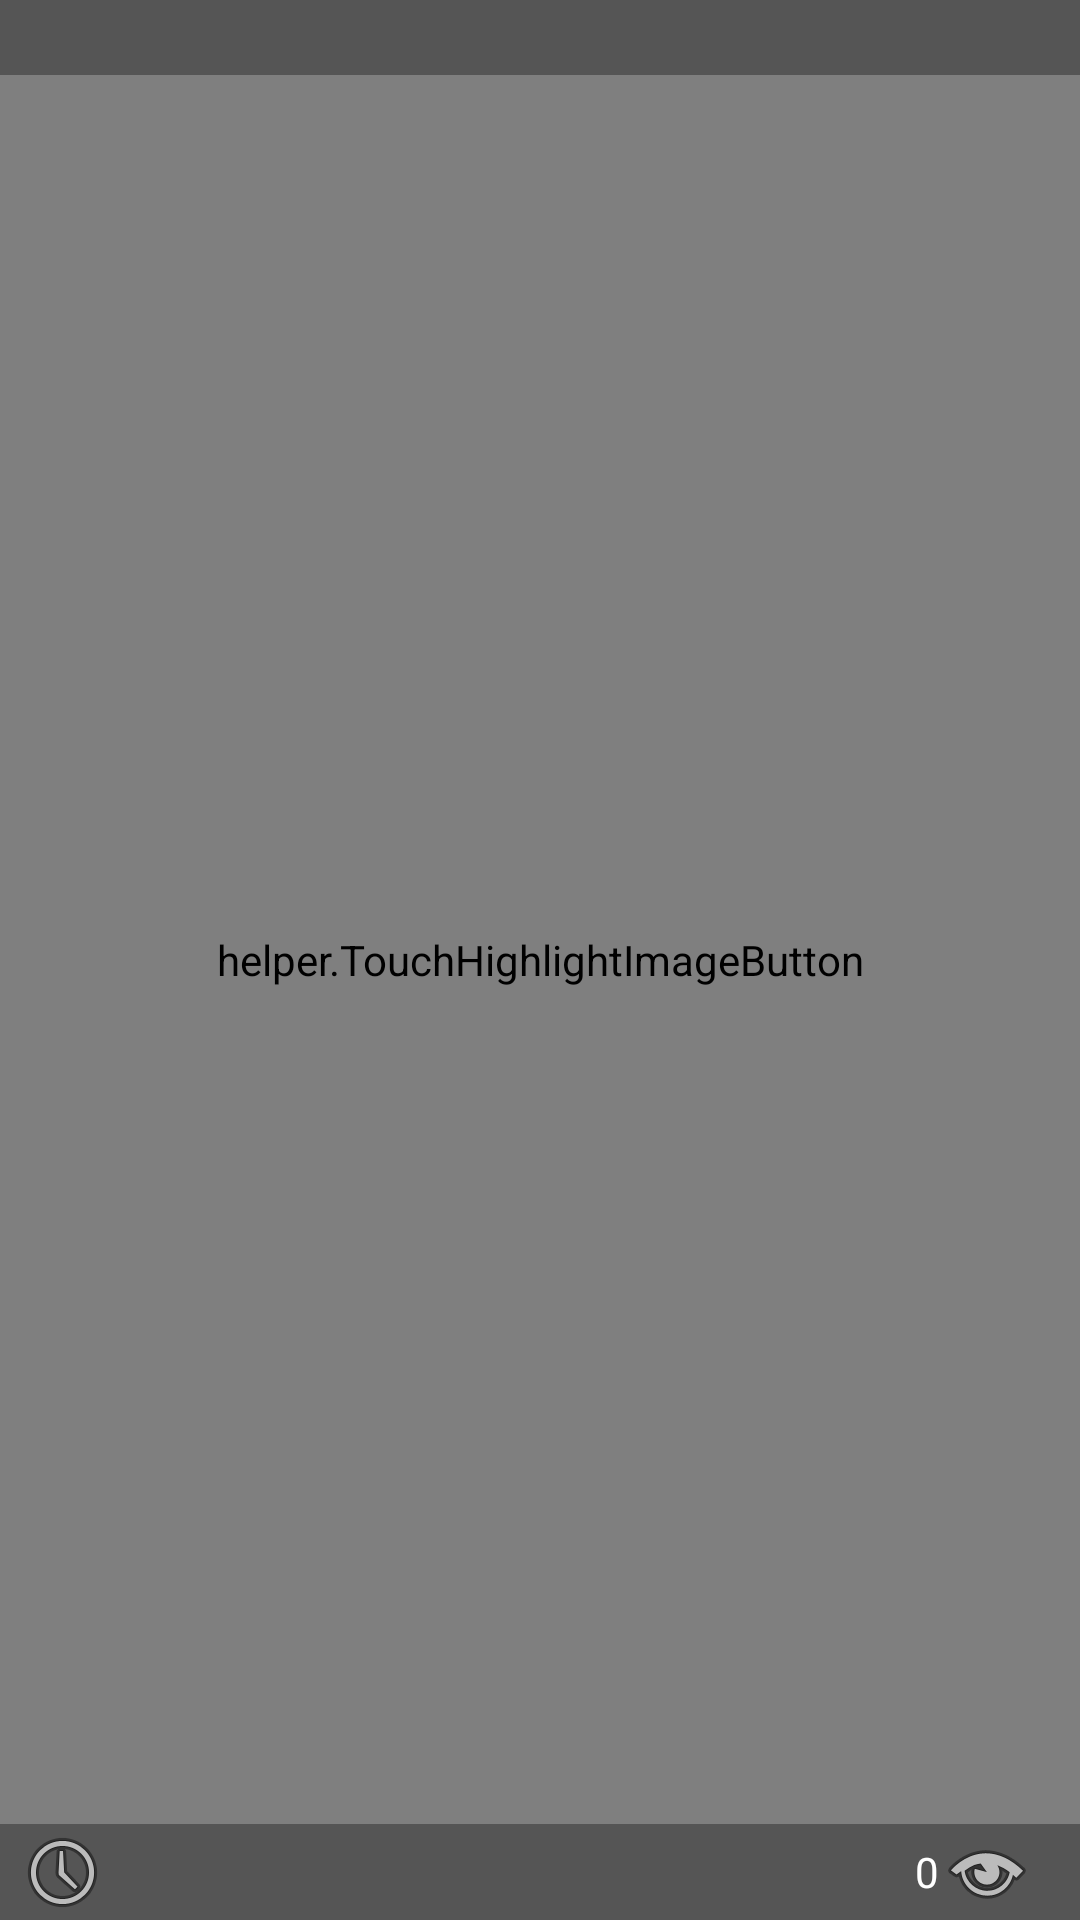

Named icons in this screenshot (1080 × 1920) and their centers, [x,y]:
recent history: [62,1872]
view: [987,1874]
